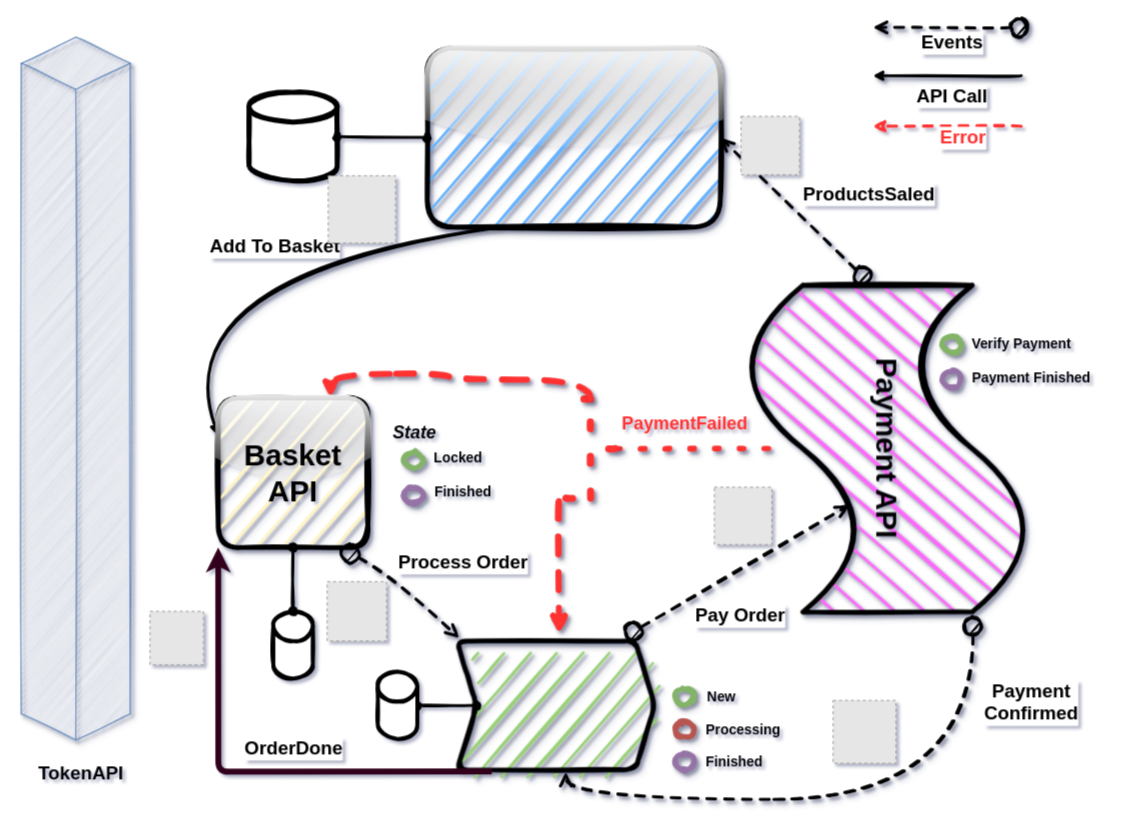
The diagram is 1124 pixels wide and 825 high, and some of its shapes have lost their labels. Grey dashed boxes stand in for pictures. The shapes that lost their labels are listed below. From the top down, each one's centre as x and y in pixels, then its label:
the point at 574,138: Store API
the point at 556,706: Order API
